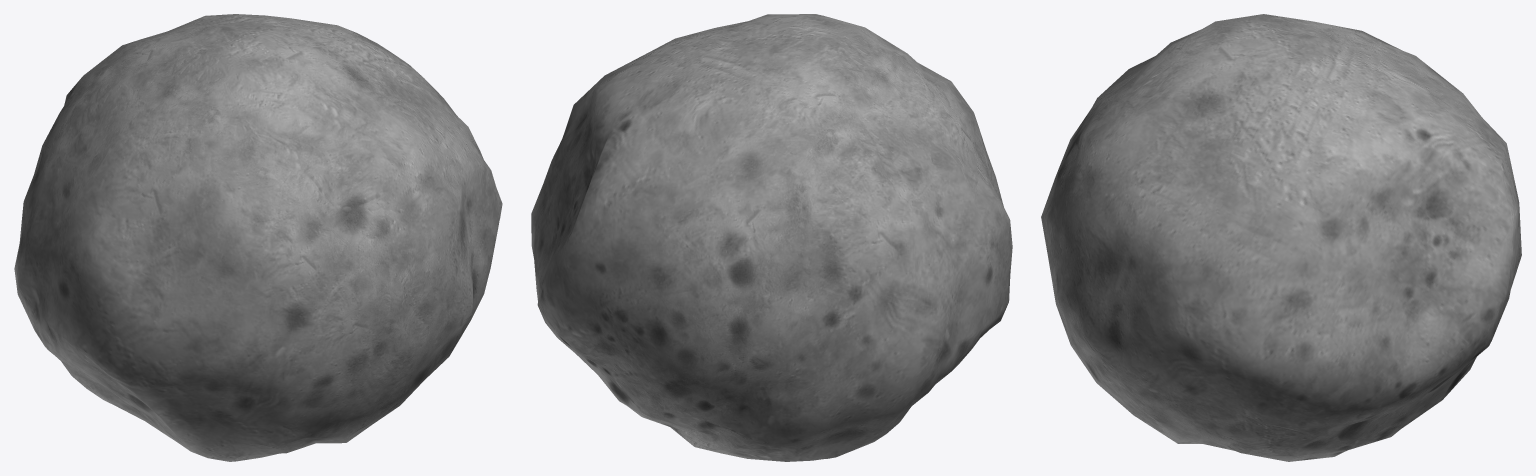
File: phoebe.glb
The picture shows the model from 3 angles, left to right: view 1: azimuth 30°, elevation 25°; view 2: azimuth 150°, elevation 25°; view 3: azimuth 270°, elevation 25°; orthographic projection.
Visible parts, largest first — view 1: Phoebe; view 2: Phoebe; view 3: Phoebe.
Part boxes in pixels (x1=…): Phoebe: x1=14, y1=14, x2=502, y2=461; Phoebe: x1=531, y1=14, x2=1012, y2=461; Phoebe: x1=1041, y1=14, x2=1521, y2=461.
Bounding box in the file's own units: 1.94 × 1.75 × 1.89.
1 material, 1 textured.
